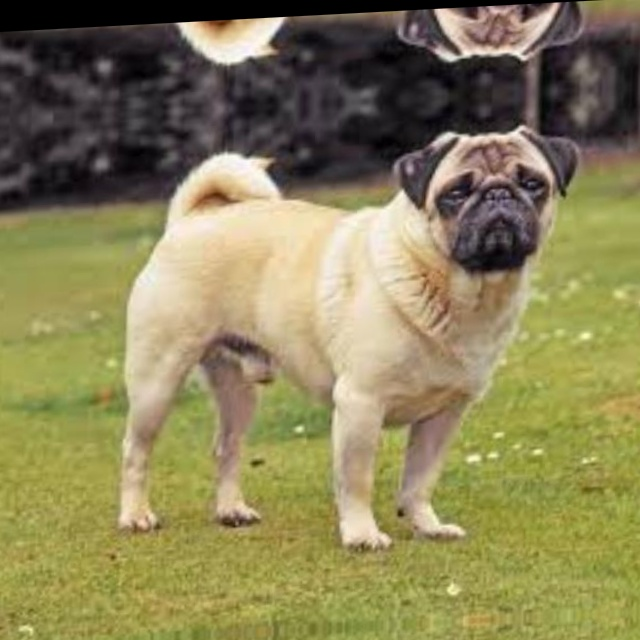dog: (107, 106, 590, 600), (121, 1, 593, 95)
